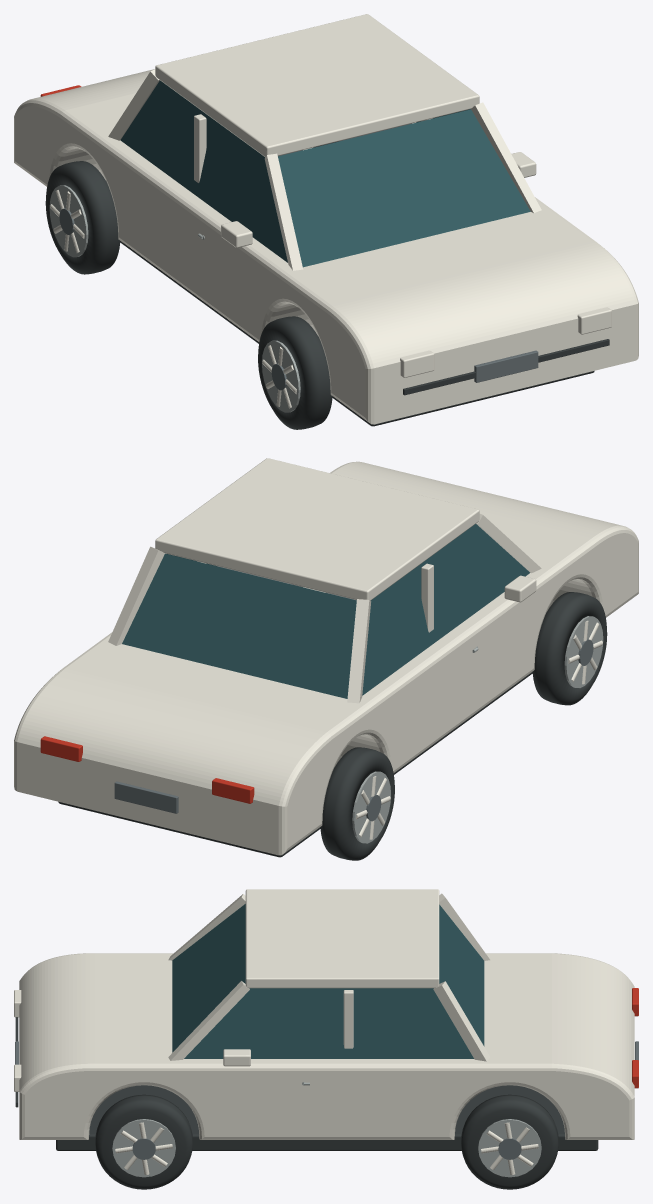
The model's file is automated-parking-and-vehicle-retrieval-automated-park-2f08994e__30387.glb.
The picture shows the model from 3 angles, top to bottom: view 1: azimuth 30°, elevation 25°; view 2: azimuth 150°, elevation 25°; view 3: azimuth 270°, elevation 25°; orthographic projection. The views are drawn at different scales.
Visible parts, largest first — view 1: automated-parking-and-vehicle-retrieval-compact-passenger-ca (×5); view 2: automated-parking-and-vehicle-retrieval-compact-passenger-ca (×6); view 3: automated-parking-and-vehicle-retrieval-compact-passenger-ca (×5).
Part boxes in pixels (x1,y1,x2,y2): automated-parking-and-vehicle-retrieval-compact-passenger-ca (×5): (14, 14, 638, 429); automated-parking-and-vehicle-retrieval-compact-passenger-ca (×6): (14, 458, 638, 860); automated-parking-and-vehicle-retrieval-compact-passenger-ca (×5): (14, 889, 638, 1189).
Bounding box in the file's own units: 1.98 × 1.39 × 4.03.
